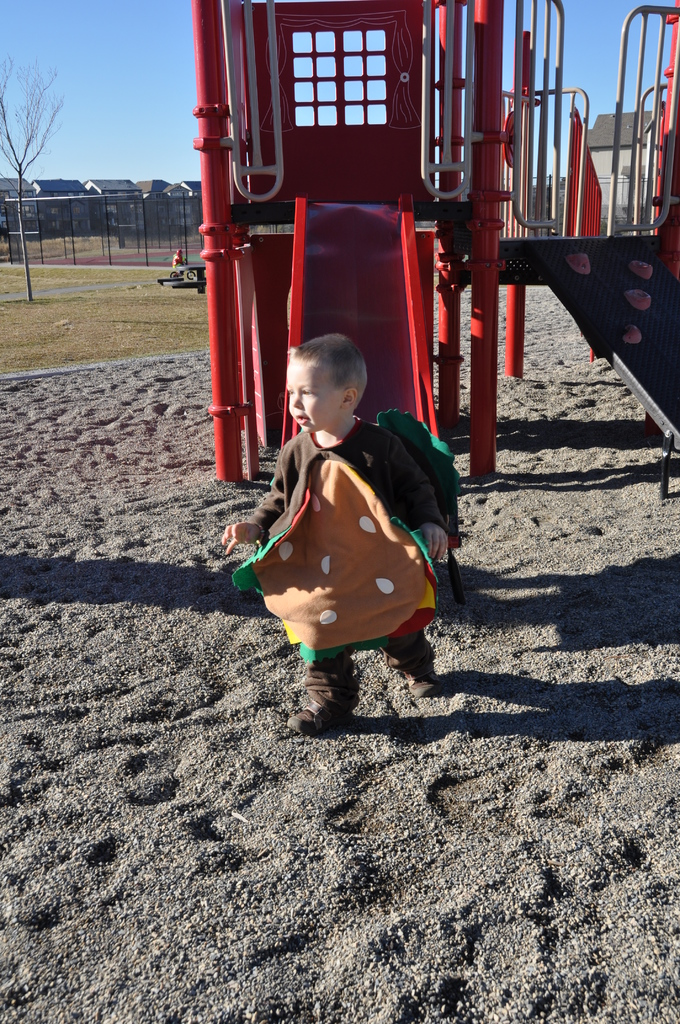Human_hand: (215, 519, 261, 557), (421, 522, 452, 555)
